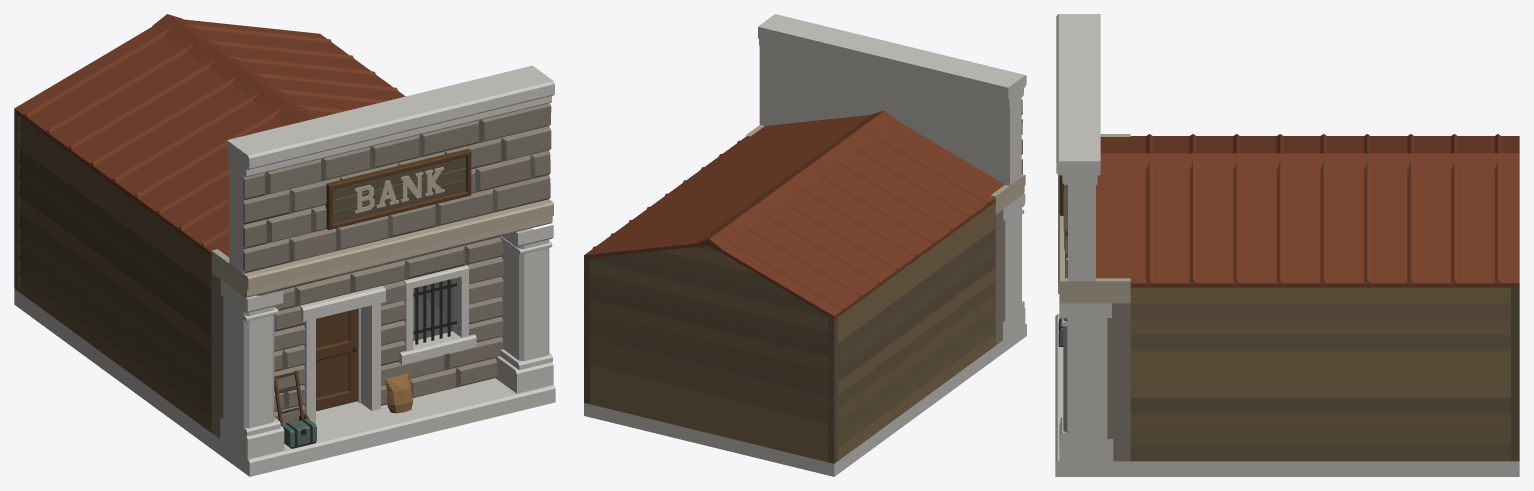
File: bank-414f6b.glb
3 views of the same model, side by side, from view 1: azimuth 30°, elevation 25°; view 2: azimuth 150°, elevation 25°; view 3: azimuth 270°, elevation 25° (orthographic). The views are drawn at different scales.
Visible parts, largest first — view 1: bank-mesh, door-mesh, glass-mesh, mail-sack-mesh, strongbox-mesh; view 2: bank-mesh; view 3: bank-mesh.
Part boxes in pixels (box(x1,y1,x2,y2)): bank-mesh: box(14, 14, 555, 476); door-mesh: box(316, 308, 357, 411); glass-mesh: box(413, 279, 452, 340); mail-sack-mesh: box(385, 373, 413, 413); strongbox-mesh: box(281, 418, 316, 447); bank-mesh: box(584, 14, 1026, 476); bank-mesh: box(1055, 14, 1519, 476).
Size of the model in its own units: 6 by 6 by 8.
